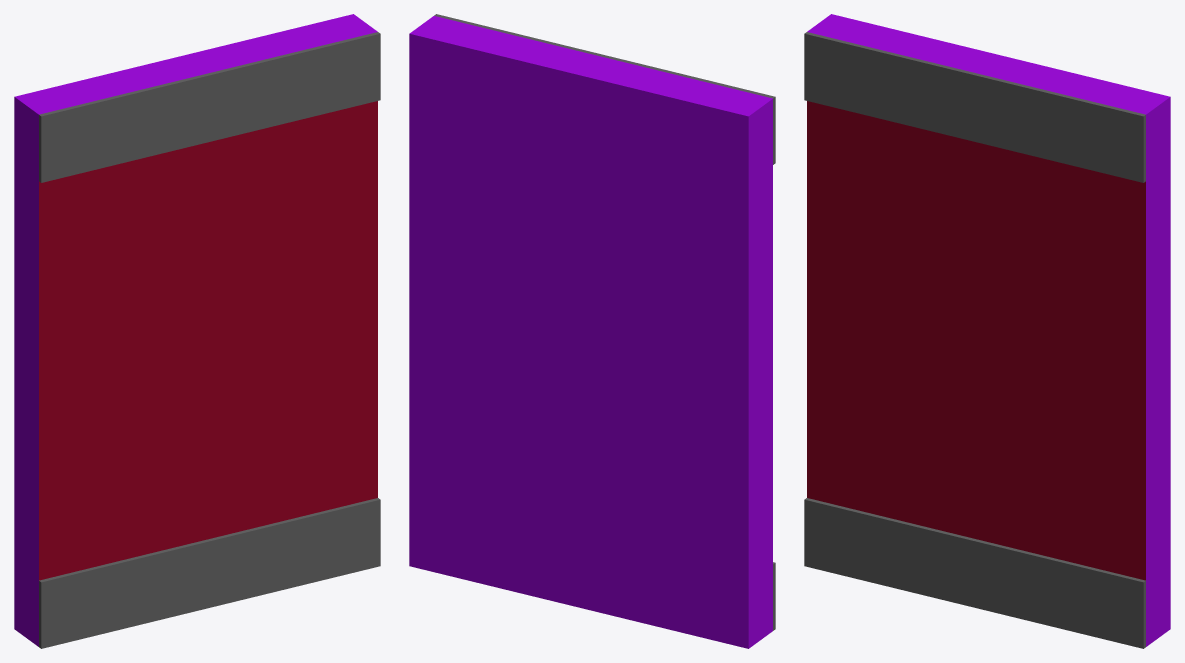
File: Wall_X_01_2x3.fbx
3 views of the same model, side by side, from view 1: azimuth 30°, elevation 25°; view 2: azimuth 150°, elevation 25°; view 3: azimuth 330°, elevation 25° (orthographic).
Visible parts, largest first — view 1: Wall_01_X_2x3; view 2: Wall_01_X_2x3; view 3: Wall_01_X_2x3.
Part boxes in pixels (x1=…): Wall_01_X_2x3: x1=14, y1=14, x2=380, y2=648; Wall_01_X_2x3: x1=409, y1=14, x2=775, y2=648; Wall_01_X_2x3: x1=804, y1=14, x2=1170, y2=648.
Bounding box in the file's own units: 2 × 3 × 0.275.
